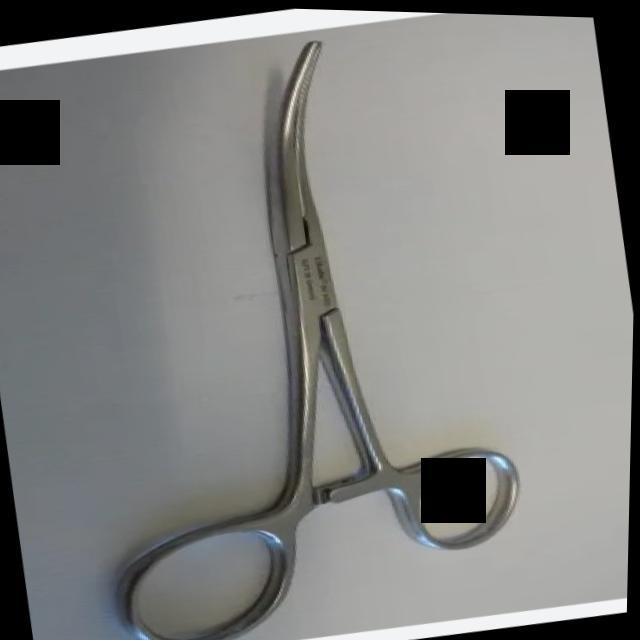Doyel Instestinal Forceps: (32, 4, 558, 640)
